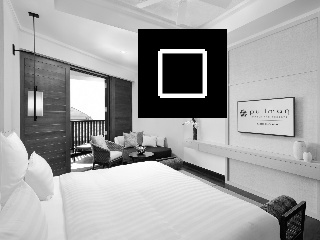square: (138, 29, 226, 118)
